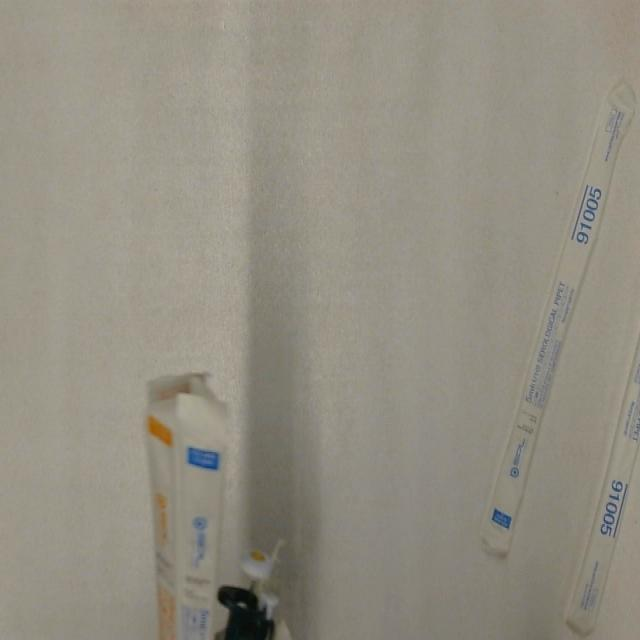Serelogical Pipet 10 mL - Sealed: (145, 395, 183, 640)
Serelogical Pipet 5 mL - Sealed: (475, 67, 640, 555), (563, 304, 640, 635), (176, 388, 230, 640)
Single Channel Pipettor: (218, 542, 285, 640)
